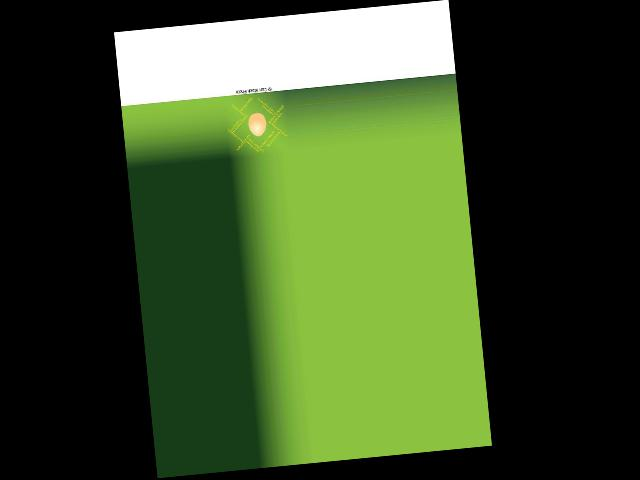egg: (247, 112, 267, 137)
